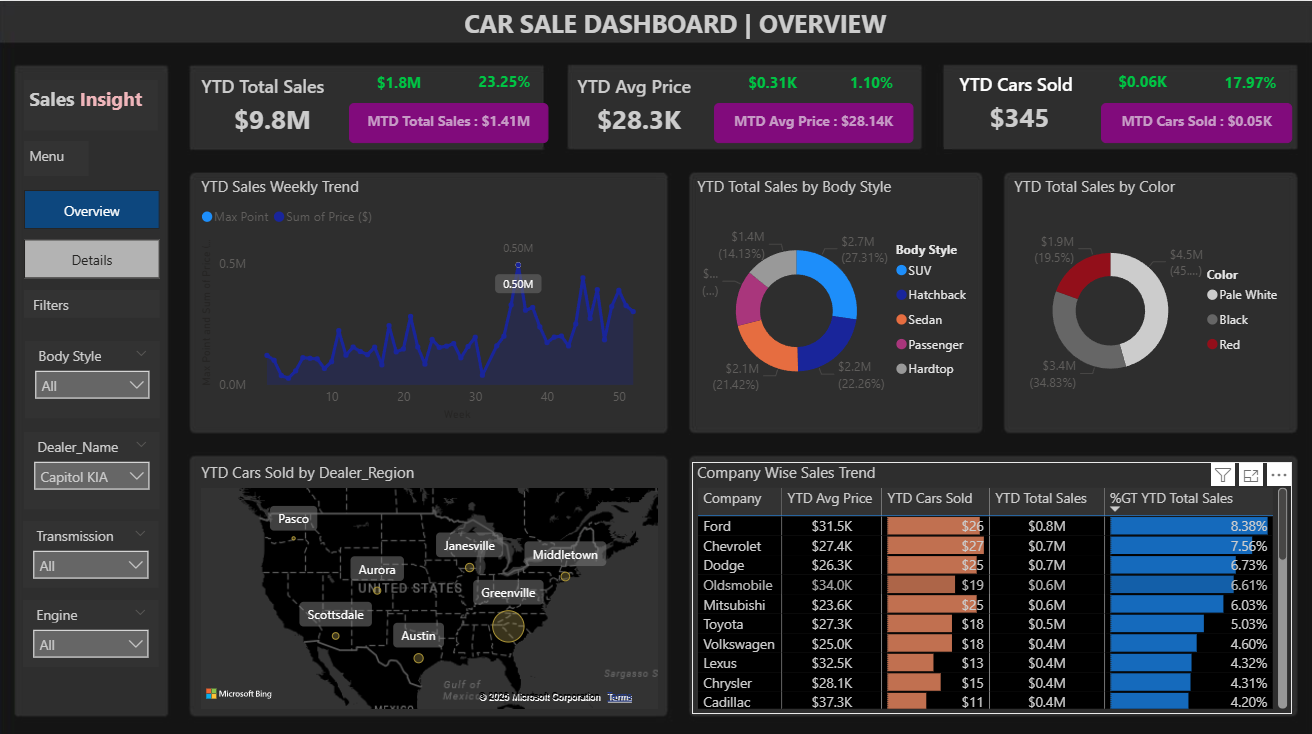

Layout of this report page (visuals, bound fields, positions):
{"tool":"powerbi","page":{"name":"Overview","canvas":[1280,720],"ordinal":0},"visuals":[{"type":"card","title":"YTD Total Sales","fields":{"Values":["car_data.YTD Total Sales"]},"box":[192.6,70,148.8,69.1],"z":0},{"type":"card","fields":{"Values":["car_data.Cars Sold Diff"]},"box":[1072.8,62.2,80.7,37],"z":1000},{"type":"card","fields":{"Values":["car_data.YoY Sales Growth"]},"box":[438.7,62.2,108,37],"z":2000},{"type":"card","fields":{"Values":["car_data.MTD KPI"]},"box":[341.4,99.2,193.6,38.9],"z":3000},{"type":"card","title":"YTD Avg Price","fields":{"Values":["car_data.YTD Avg Price"]},"box":[558.3,70,130.3,68.1],"z":4000},{"type":"card","fields":{"Values":["car_data.Sales Difference"]},"box":[341.4,63.2,97.3,36],"z":5000},{"type":"card","fields":{"Values":["car_data.YOY Avg Price Growth"]},"box":[809.2,62.2,80.7,38.9],"z":6000},{"type":"card","fields":{"Values":["car_data.MTD Avg Price KPI"]},"box":[696.4,99.2,193.6,38.9],"z":7000},{"type":"card","title":" YTD Cars Sold","fields":{"Values":["car_data.YTD Cars Sold"]},"box":[929.8,68.1,127.4,68.1],"z":8000},{"type":"card","fields":{"Values":["car_data.Avg Price Diff"]},"box":[712.9,64.2,80.7,35],"z":9000},{"type":"card","fields":{"Values":["car_data.YOY Car Sold Growth"]},"box":[1177.9,66.1,80.7,31.1],"z":10000},{"type":"card","fields":{"Values":["car_data.MTD Cars Sold KPI"]},"box":[1072.8,99.2,185.8,38.9],"z":11000},{"type":"areaChart","title":"YTD Sales Weekly Trend","fields":{"Y":["car_data.Max Point","Sum(car_data.Price ($))"],"Category":["Calendar Table.Week"]},"box":[192.6,170.2,454.2,242.2],"z":12000},{"type":"donutChart","fields":{"Category":["car_data.Body Style"],"Y":["car_data.YTD Total Sales"]},"box":[675,170.2,281.1,242.2],"z":13000},{"type":"donutChart","fields":{"Y":["car_data.YTD Total Sales"],"Category":["car_data.Color"]},"box":[983.3,170.2,275.3,242.2],"z":14000},{"type":"map","fields":{"Category":["car_data.Dealer_Region"],"Size":["car_data.YTD Cars Sold"]},"box":[192.6,448.4,454.2,245.1],"z":15000},{"type":"tableEx","title":"Company Wise Sales Trend","fields":{"Values":["car_data.Company","car_data.YTD Avg Price","car_data.YTD Cars Sold","car_data.YTD Total Sales1","car_data.YTD Total Sales"]},"box":[675,448.4,583.6,245.1],"z":16000},{"type":"textbox","box":[448.4,0,453.3,47.7],"z":17000},{"type":"slicer","fields":{"Values":["car_data.Body Style"]},"box":[26.3,330.7,131.3,74.9],"z":18000},{"type":"slicer","fields":{"Values":["car_data.Dealer_Name"]},"box":[25.3,419.2,132.3,74.9],"z":19000},{"type":"slicer","fields":{"Values":["car_data.Transmission"]},"box":[24.3,505.8,132.3,65.2],"z":20000},{"type":"slicer","fields":{"Values":["car_data.Engine"]},"box":[24.3,582.6,132.3,65.2],"z":21000},{"type":"textbox","box":[25.3,281.1,132.3,27.2],"z":22000},{"type":"textbox","box":[25.3,76.8,130.3,48.6],"z":23000},{"type":"textbox","box":[25.3,136.2,63.2,34],"z":24000},{"type":"pageNavigator","box":[25.3,183.8,132.3,86.6],"z":25000}]}

Visuals, with their boxes in screenshot pixels (x1, y1, x2, y2), scaled from the page's 1280x720 canvas onto the 1312x734 screenshot:
"YTD Total Sales" card: (197,71,350,142)
card - car_data.Cars Sold Diff: (1100,63,1182,101)
card - car_data.YoY Sales Growth: (450,63,560,101)
card - car_data.MTD KPI: (350,101,548,141)
"YTD Avg Price" card: (572,71,706,141)
card - car_data.Sales Difference: (350,64,450,101)
card - car_data.YOY Avg Price Growth: (829,63,912,103)
card - car_data.MTD Avg Price KPI: (714,101,912,141)
" YTD Cars Sold" card: (953,69,1084,139)
card - car_data.Avg Price Diff: (731,65,813,101)
card - car_data.YOY Car Sold Growth: (1207,67,1290,99)
card - car_data.MTD Cars Sold KPI: (1100,101,1290,141)
"YTD Sales Weekly Trend" areaChart: (197,174,663,420)
donutChart - car_data.Body Style x car_data.YTD Total Sales: (692,174,980,420)
donutChart - car_data.YTD Total Sales x car_data.Color: (1008,174,1290,420)
map - car_data.Dealer_Region x car_data.YTD Cars Sold: (197,457,663,707)
"Company Wise Sales Trend" tableEx: (692,457,1290,707)
textbox: (460,0,924,49)
slicer - car_data.Body Style: (27,337,162,413)
slicer - car_data.Dealer_Name: (26,427,162,504)
slicer - car_data.Transmission: (25,516,161,582)
slicer - car_data.Engine: (25,594,161,660)
textbox: (26,287,162,314)
textbox: (26,78,159,128)
textbox: (26,139,91,174)
pageNavigator: (26,187,162,276)
